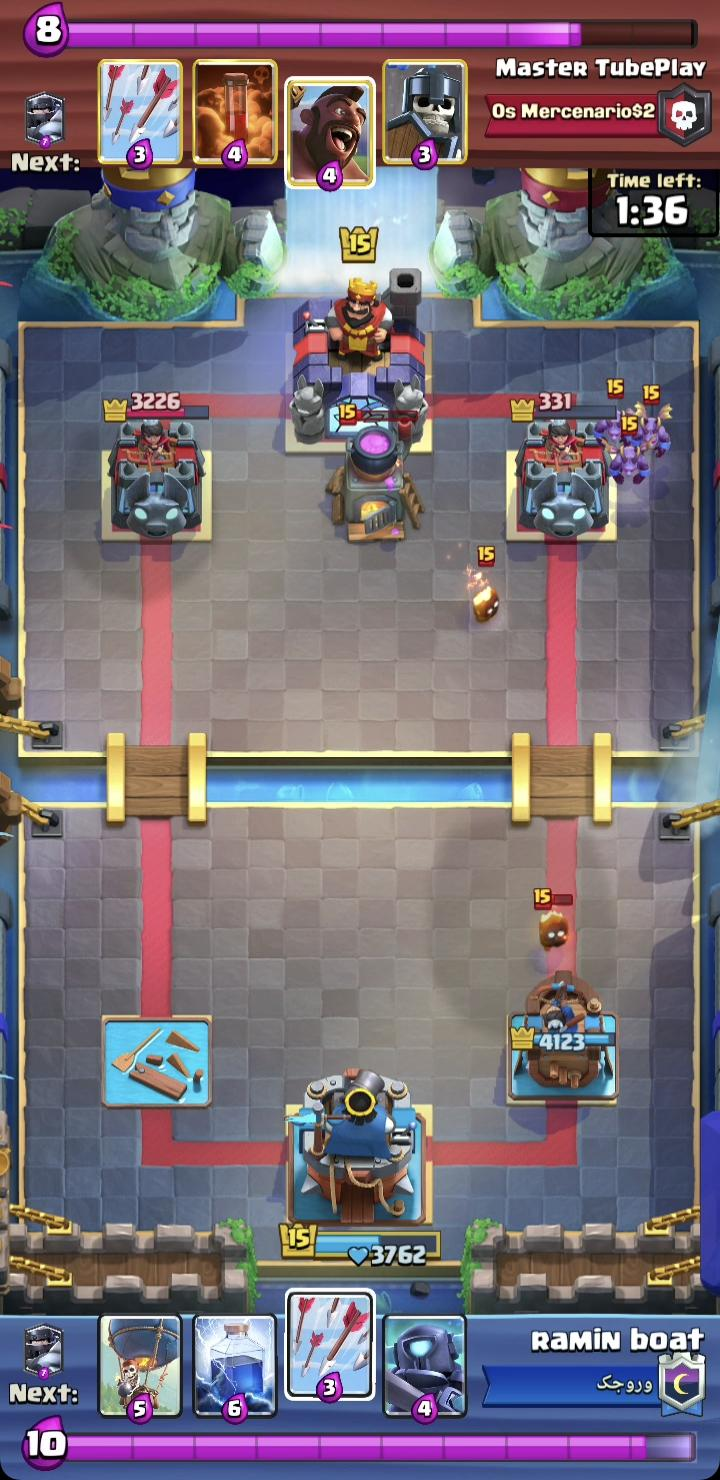enemy_fire_spirit: (464, 546, 502, 624), (531, 887, 575, 952)
enemy_furnace: (325, 402, 426, 544)
enemy_minion: (592, 379, 640, 450), (608, 414, 650, 484), (633, 385, 673, 457)
